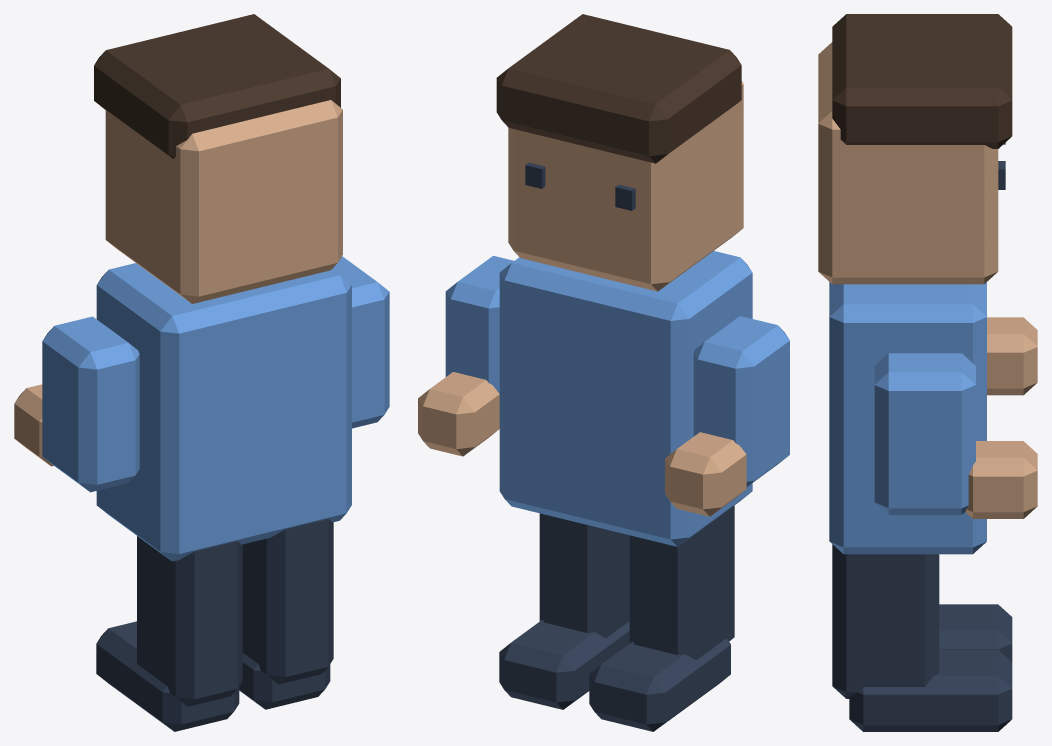
Rendered from agent-frontend.glb.
3 renders of one model, left to right at view 1: azimuth 30°, elevation 25°; view 2: azimuth 150°, elevation 25°; view 3: azimuth 270°, elevation 25°, orthographic. The views are drawn at different scales.
Visible parts, largest first — view 1: Torso.001, Head.001, Hair.001, Leg.002, Sleeve.002, Leg.003, Sleeve.003, Shoe.002, Shoe.003, Hand.002; view 2: Torso.001, Head.001, Hair.001, Leg.002, Sleeve.002, Leg.003, Shoe.002, Shoe.003, Sleeve.003, Hand.002, Hand.003; view 3: Head.001, Torso.001, Hair.001, Sleeve.003, Leg.003, Shoe.003, Hand.003, Hand.002, Shoe.002.
Boxes of the visible parts, x1,y1,x2,y2 form: Torso.001: [96, 263, 351, 561]; Head.001: [105, 100, 342, 303]; Hair.001: [94, 14, 340, 158]; Leg.002: [137, 536, 242, 706]; Sleeve.002: [42, 316, 139, 492]; Leg.003: [242, 519, 333, 684]; Sleeve.003: [332, 256, 389, 428]; Shoe.002: [96, 621, 239, 731]; Shoe.003: [239, 653, 330, 709]; Hand.002: [14, 384, 53, 466]; Torso.001: [499, 251, 752, 546]; Head.001: [508, 81, 743, 291]; Hair.001: [496, 14, 741, 163]; Leg.002: [629, 505, 734, 660]; Sleeve.002: [693, 316, 789, 486]; Leg.003: [539, 513, 629, 637]; Shoe.002: [589, 638, 730, 731]; Shoe.003: [499, 619, 629, 709]; Sleeve.003: [445, 255, 513, 393]; Hand.002: [665, 432, 746, 516]; Hand.003: [418, 372, 499, 456]; Head.001: [818, 42, 998, 284]; Torso.001: [829, 282, 986, 554]; Hair.001: [832, 14, 1012, 148]; Sleeve.003: [874, 353, 975, 514]; Leg.003: [832, 544, 939, 698]; Shoe.003: [849, 649, 1012, 731]; Hand.003: [965, 441, 1037, 518]; Hand.002: [987, 317, 1037, 395]; Shoe.002: [939, 604, 1012, 661].
Bounding box in the file's own units: 0.65 × 1.27 × 0.39.
